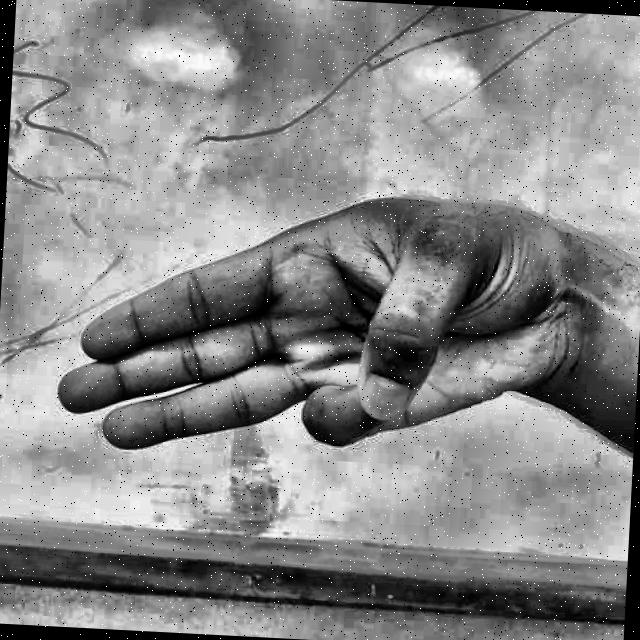Ma: (36, 116, 598, 538)
